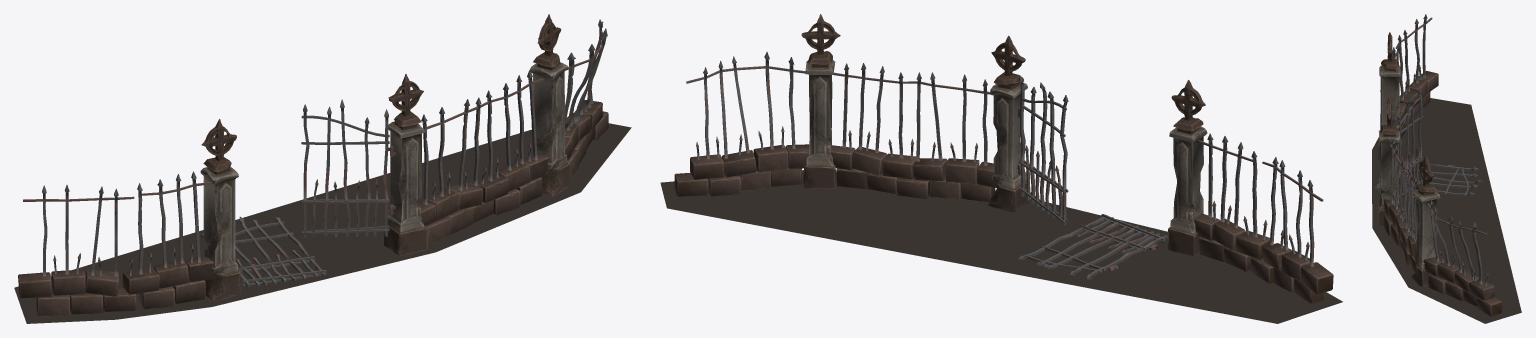
Rendered from Cementerio entrada.gltf.
The picture shows the model from 3 angles, left to right: view 1: azimuth 30°, elevation 25°; view 2: azimuth 150°, elevation 25°; view 3: azimuth 270°, elevation 25°; orthographic projection. The views are drawn at different scales.
Parts seen in each view (by area): view 1: Plane, zabor, zabor_broken_L, zabor_column, zabor_broken_R, zabor_column.001, zabor_column.002, zabor_gate_R, zabor.2, zabor_gate_L; view 2: Plane, zabor, zabor.2, zabor_broken_L, zabor_column.001, zabor_broken_R, zabor_column, zabor_column.002, zabor_gate_R, zabor_gate_L; view 3: Plane, zabor.2, zabor, zabor_column.002, zabor_broken_L, zabor_column, zabor_column.001, zabor_gate_R, zabor_gate_L, zabor_broken_R.
Boxes of the visible parts, x1,y1,x2,y2 form: Plane: (14, 123, 631, 323); zabor: (418, 70, 548, 245); zabor_broken_L: (18, 185, 136, 316); zabor_column: (383, 74, 427, 256); zabor_broken_R: (122, 171, 215, 309); zabor_column.001: (200, 119, 241, 300); zabor_column.002: (530, 14, 570, 196); zabor_gate_R: (301, 99, 395, 237); zabor.2: (564, 19, 608, 178); zabor_gate_L: (200, 216, 326, 287); Plane: (660, 170, 1342, 323); zabor: (831, 63, 997, 202); zabor.2: (674, 52, 809, 196); zabor_broken_L: (1251, 157, 1333, 303); zabor_column.001: (1167, 80, 1207, 256); zabor_broken_R: (1194, 133, 1269, 271); zabor_column: (988, 35, 1029, 212); zabor_column.002: (801, 14, 840, 188); zabor_gate_R: (1017, 76, 1068, 225); zabor_gate_L: (1018, 214, 1167, 279); Plane: (1372, 98, 1521, 323); zabor.2: (1423, 199, 1502, 316); zabor: (1383, 139, 1421, 273); zabor_column.002: (1411, 156, 1440, 286); zabor_broken_L: (1395, 14, 1438, 127); zabor_column: (1378, 97, 1399, 226); zabor_column.001: (1378, 32, 1401, 160); zabor_gate_R: (1391, 88, 1423, 200); zabor_gate_L: (1374, 161, 1482, 196); zabor_broken_R: (1392, 43, 1406, 138).
Bounding box in the file's own units: 1221 × 310 × 338.
2 materials, 1 textured.
